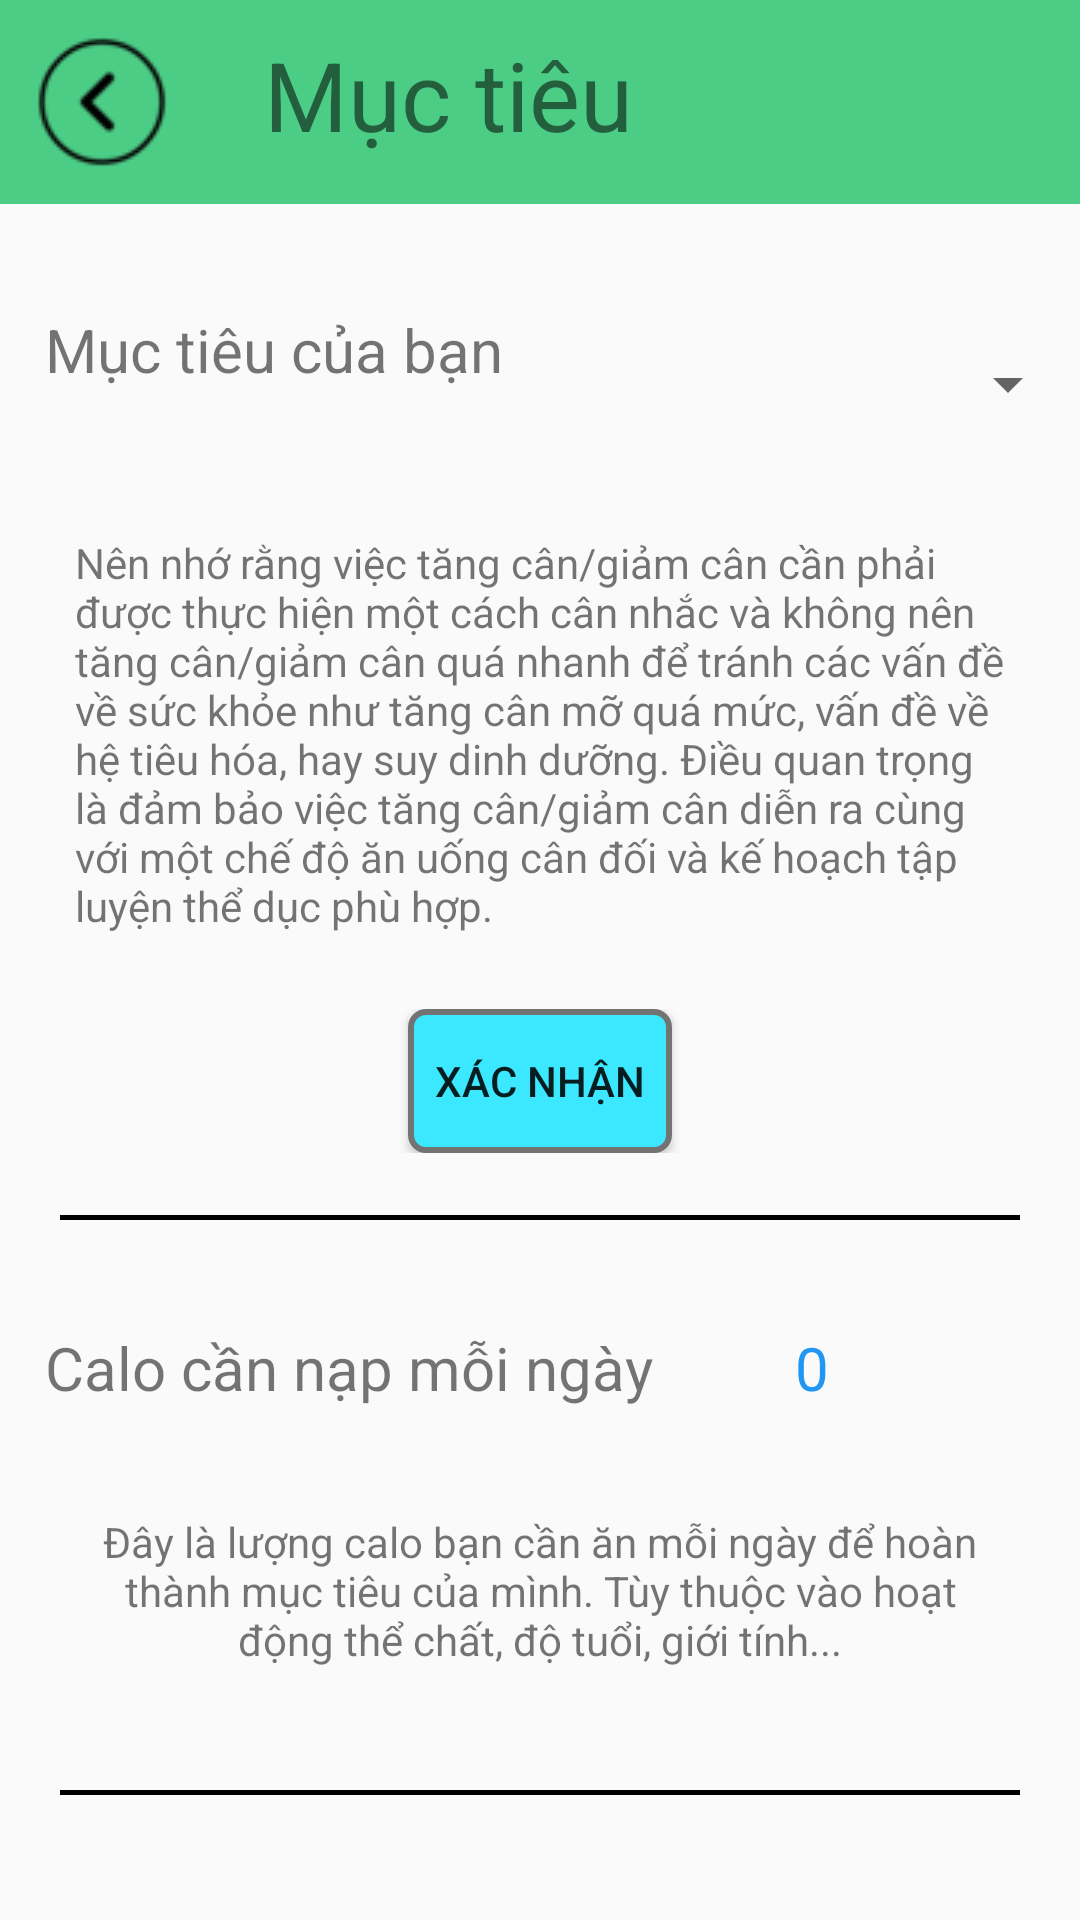

Icons on this 1080w x 1920h Android screen, each with the point to tap as [x,y]:
back: [102,102]
